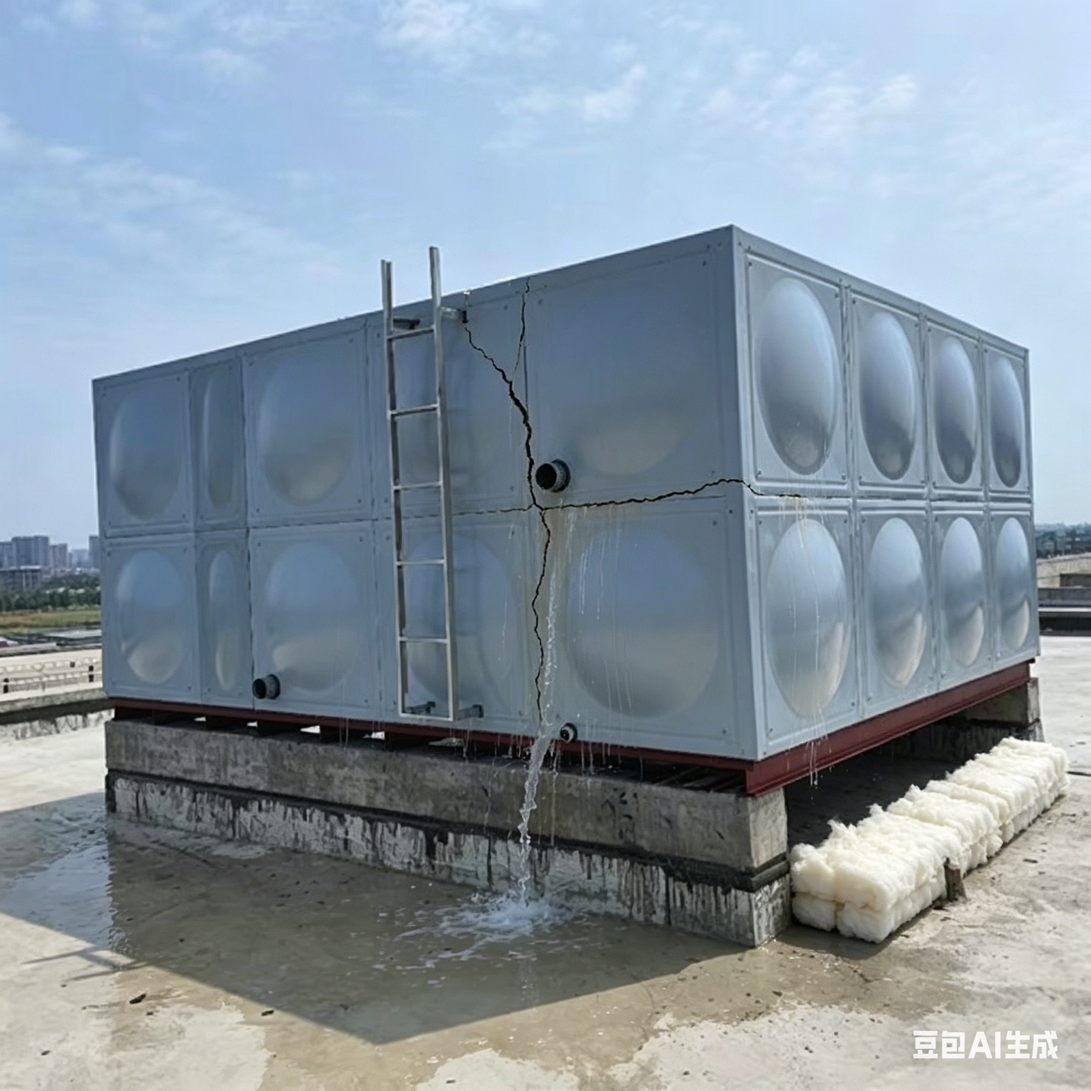Leakage: (42, 856, 503, 1077), (604, 921, 959, 1027), (511, 628, 594, 1067)
